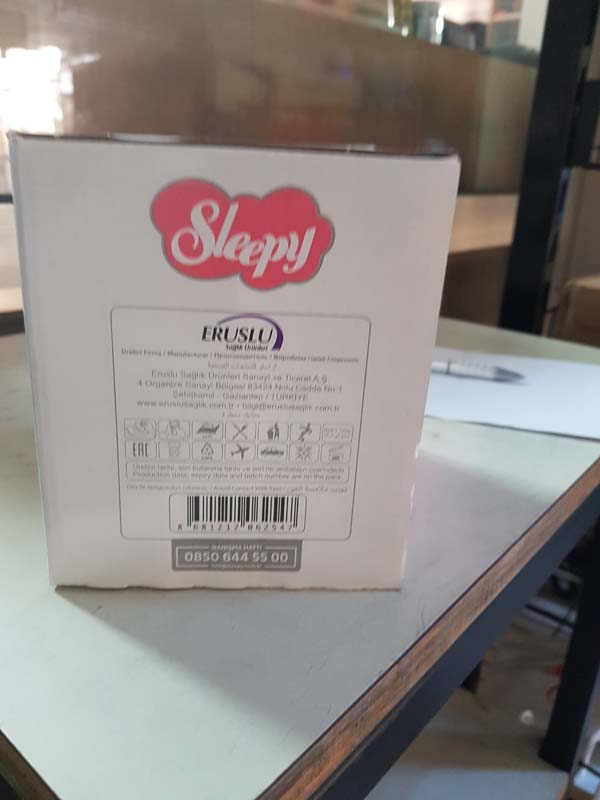sleepyogrencikoli: (4, 115, 467, 594)
